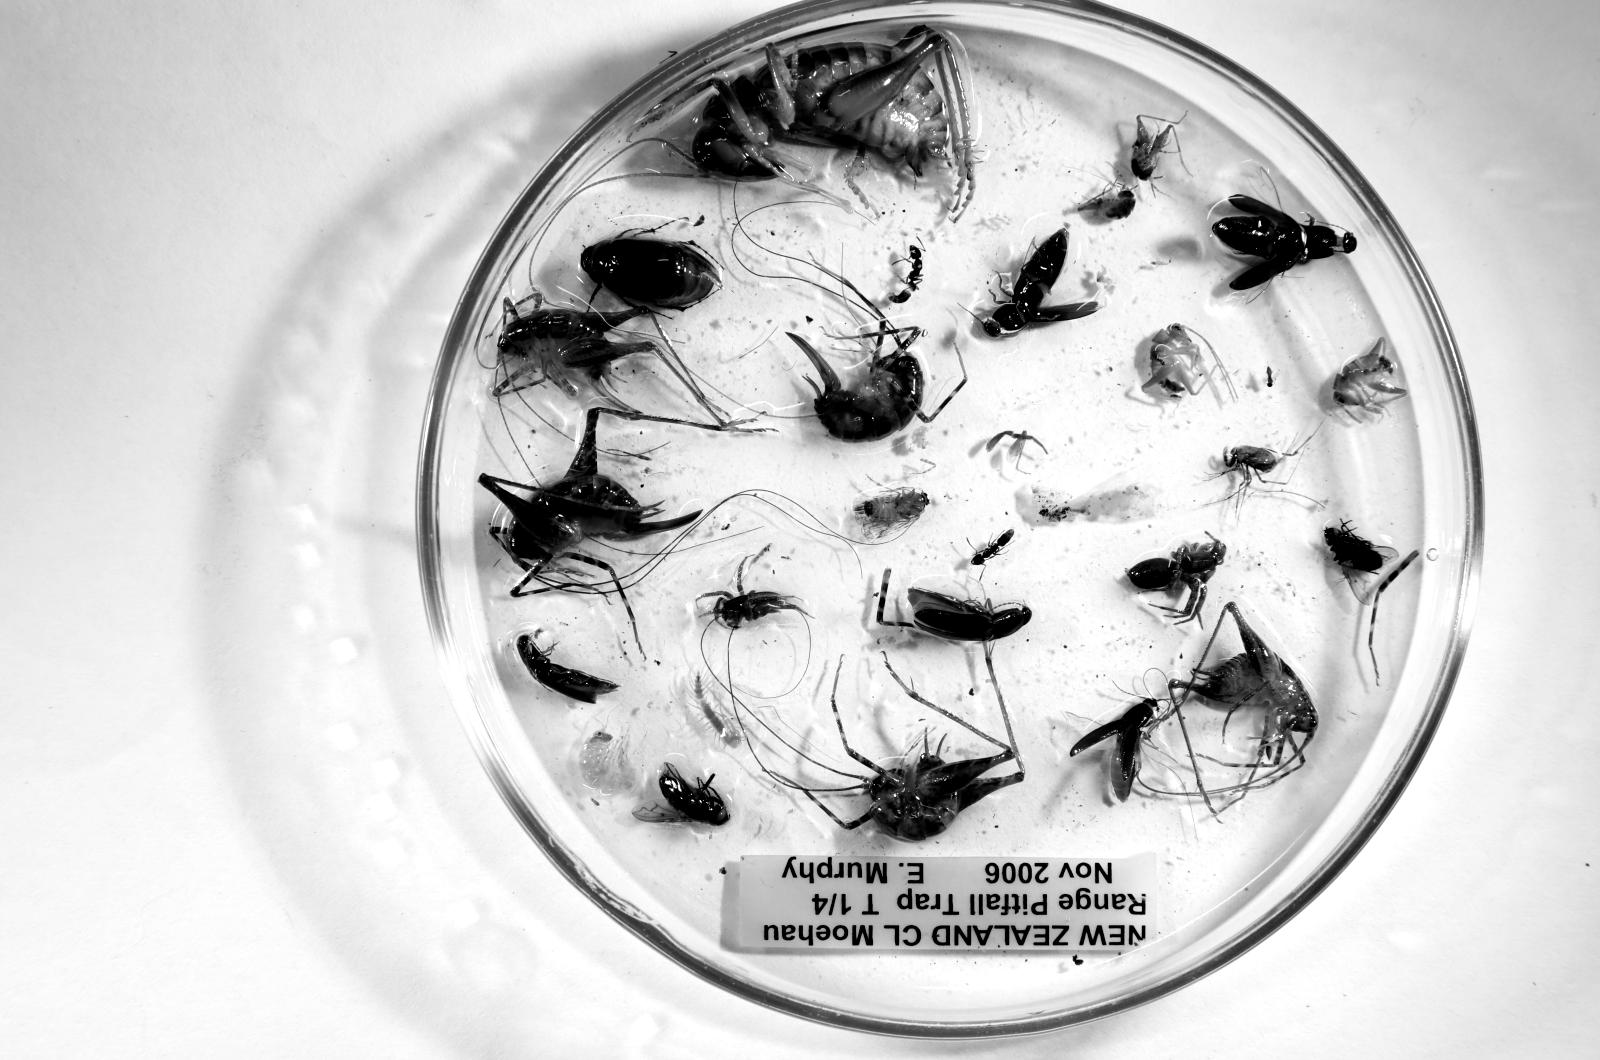amphipoda: (580, 728, 636, 794)
araneae: (696, 547, 810, 630), (1126, 532, 1227, 623)
chilopoda: (687, 671, 744, 749)
coleoptera: (1211, 194, 1358, 291), (983, 225, 1102, 337), (581, 237, 720, 309), (1070, 699, 1158, 801), (517, 635, 619, 703), (908, 587, 1032, 642)
diptera: (1324, 523, 1399, 604), (633, 763, 729, 825), (854, 487, 930, 542)
formicidae: (888, 246, 923, 303), (970, 529, 1014, 566)
opiliones: (1223, 445, 1285, 483)
orthoptera: (694, 25, 973, 180), (479, 407, 701, 597), (831, 676, 1024, 840), (1169, 602, 1318, 766), (494, 294, 656, 398), (789, 333, 925, 442), (1332, 337, 1406, 422), (1142, 324, 1207, 397), (1131, 116, 1175, 180), (1075, 185, 1136, 221), (938, 798, 941, 801)
